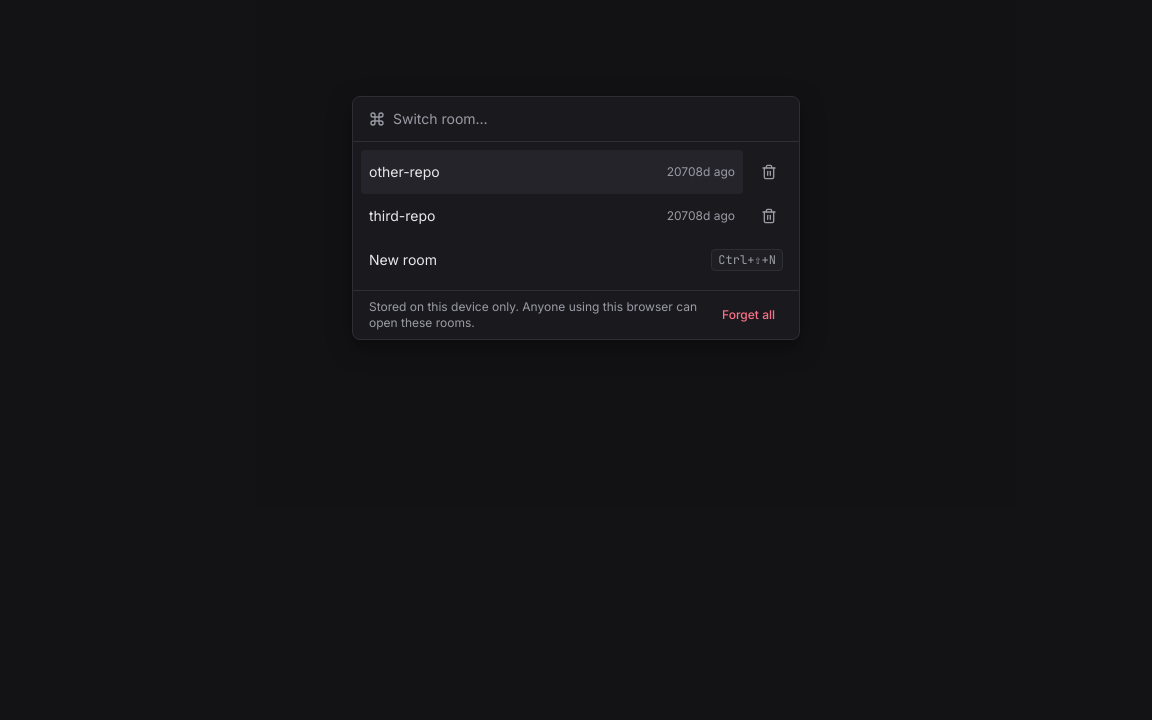
Scenario: RoomSwitcher › filters as you type
Type "third" into the field named "filter rooms" at (588, 119), box [393,109,783,129]
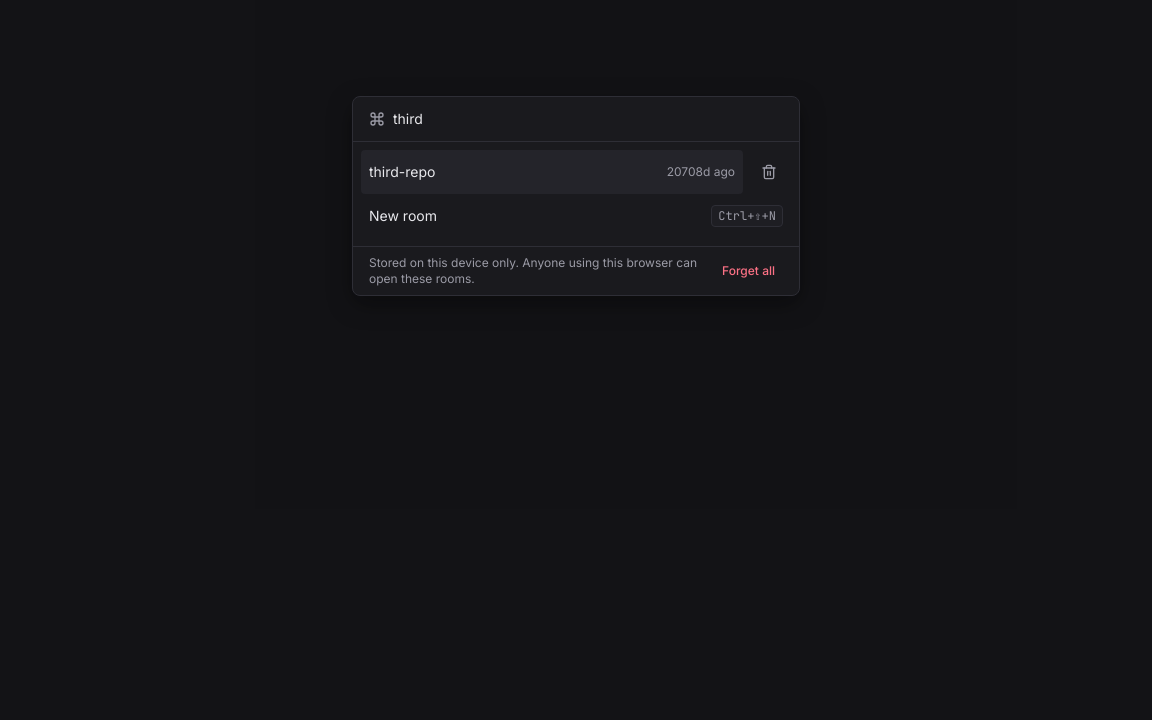
Expected: the option "third-repo 20708d ago" is shown, [361,150,743,194]
Result: the option "other-repo" is gone
